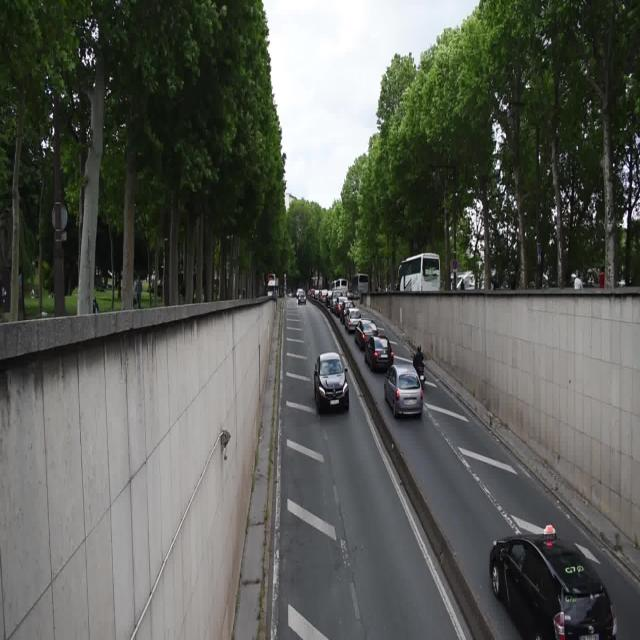Bus: (387, 253, 446, 295)
Car: (485, 515, 616, 640), (309, 346, 356, 416), (381, 360, 426, 426), (366, 332, 396, 373), (351, 316, 379, 350), (329, 291, 346, 319), (346, 305, 360, 329), (292, 287, 309, 305)
Motorcycle: (407, 338, 433, 386)
